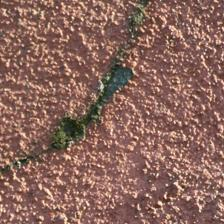Crack: (3, 6, 146, 171)
